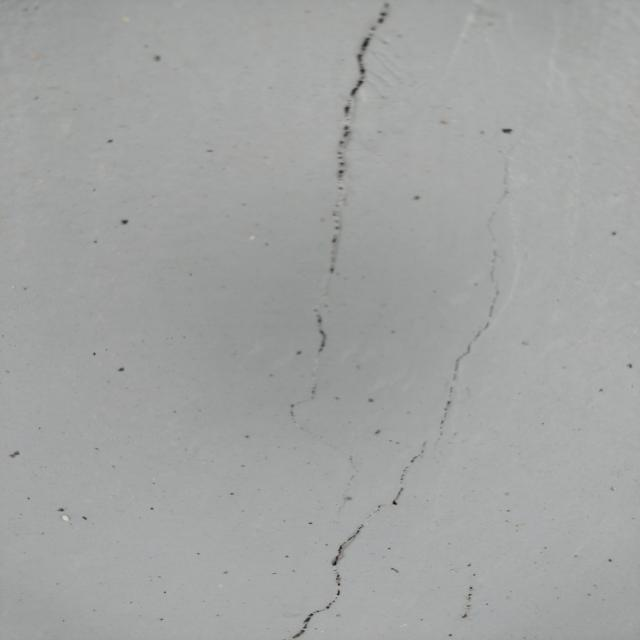Crack: (283, 1, 397, 440)
